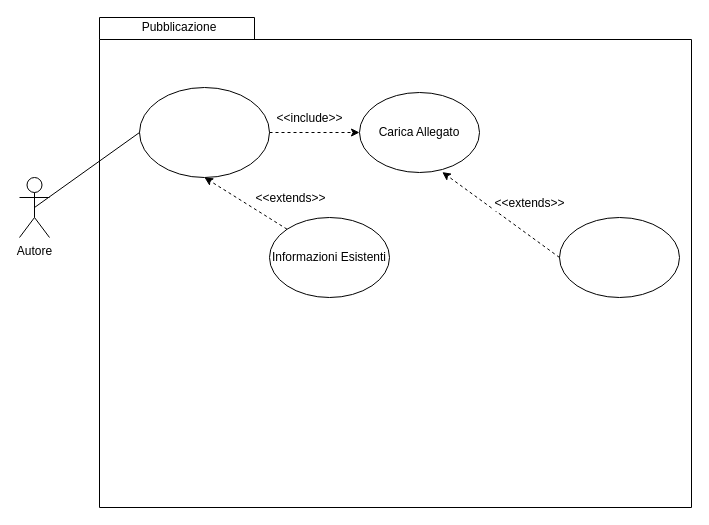
Some shapes in this 709 by 525 pixel diagram are drawn without their labels. The box of each missing label's shape, as (x1, y1, x2, y2) in pixels:
Formato allegato errato: (558, 216, 680, 298)
Richiesta pubblicazione articoli: (138, 86, 270, 178)
